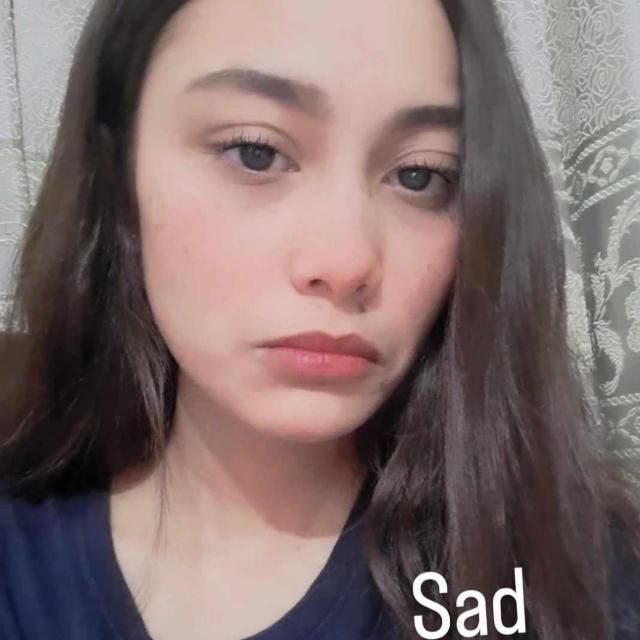Sad: (98, 0, 564, 450)
